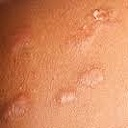Keloids: (2, 96, 28, 123), (85, 7, 115, 28), (79, 68, 104, 85)
